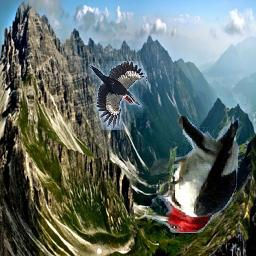Woodpecker: (142, 117, 240, 234), (89, 62, 147, 131)
